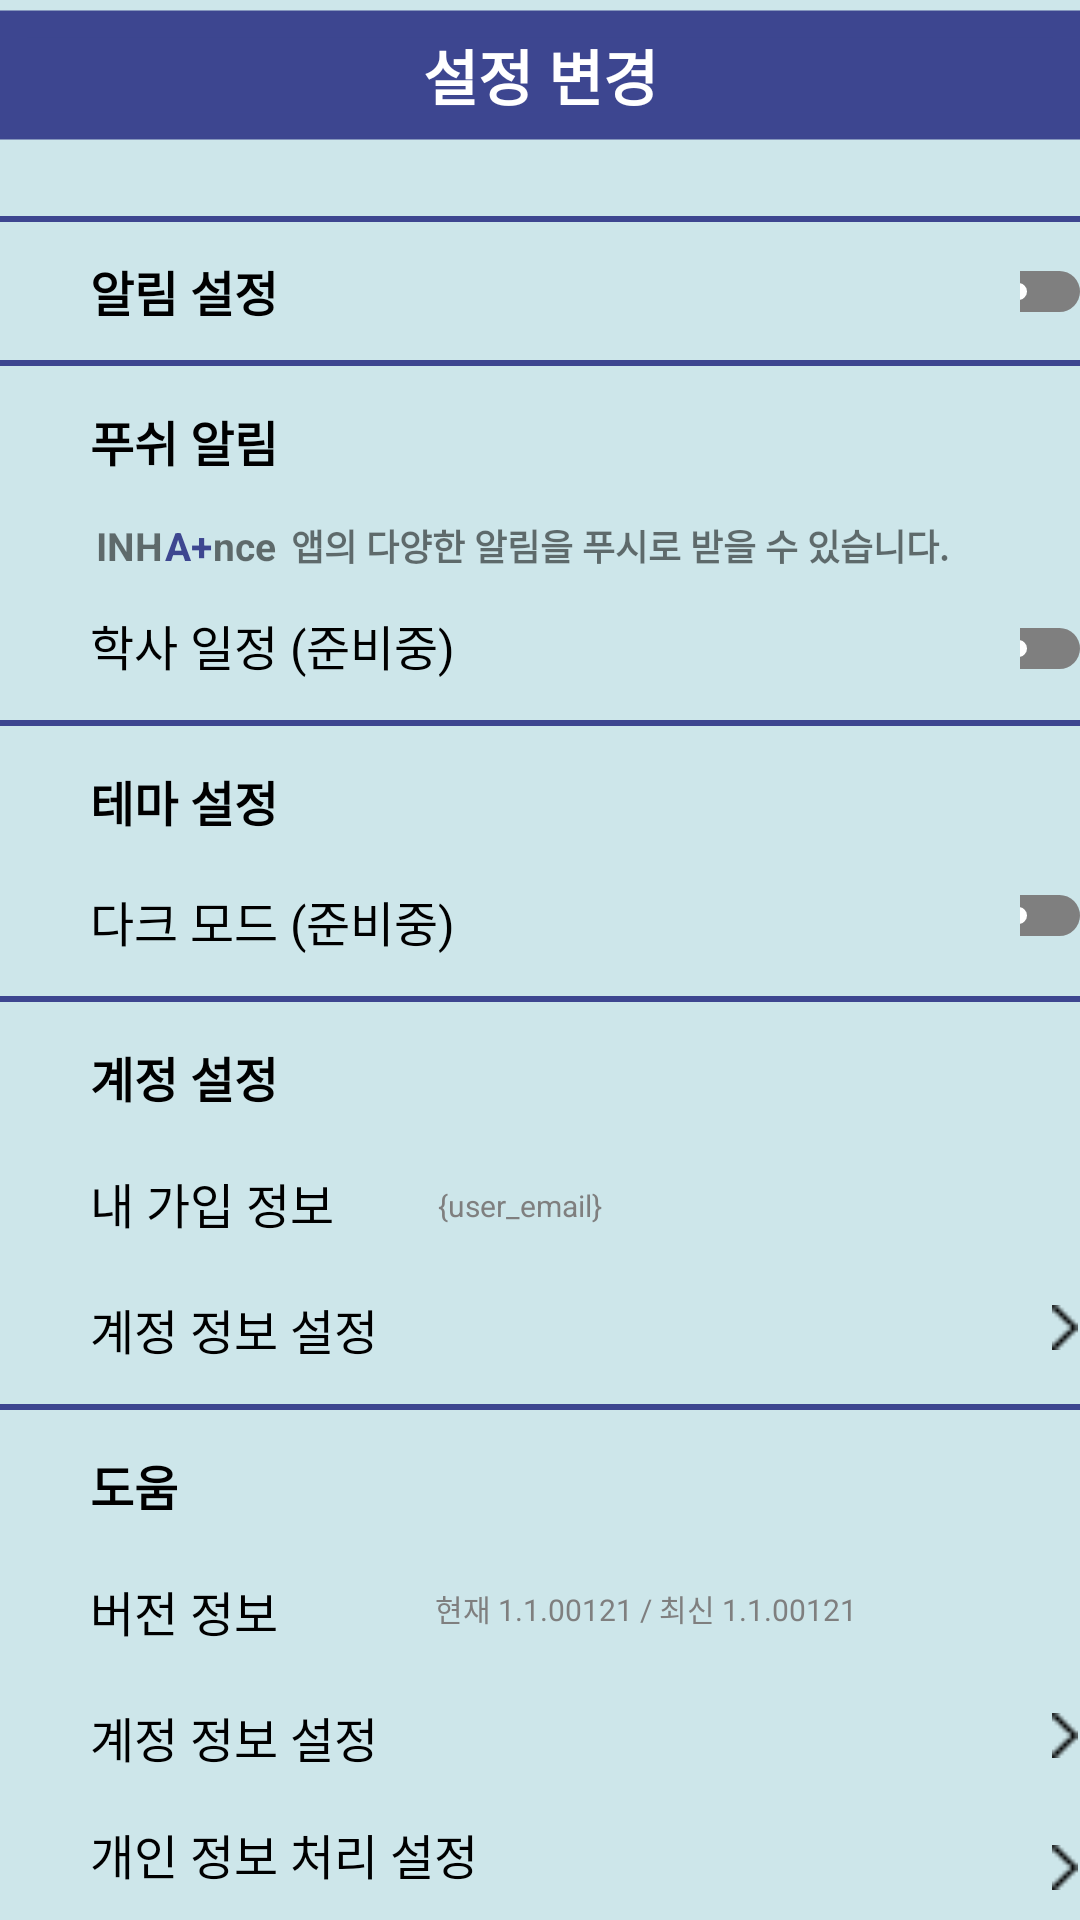

Point at icon controls on the screen. Image size 1080w x 1920h, points as (x,y).
arrow right: (1065,1327), (1065,1735), (1065,1867)
